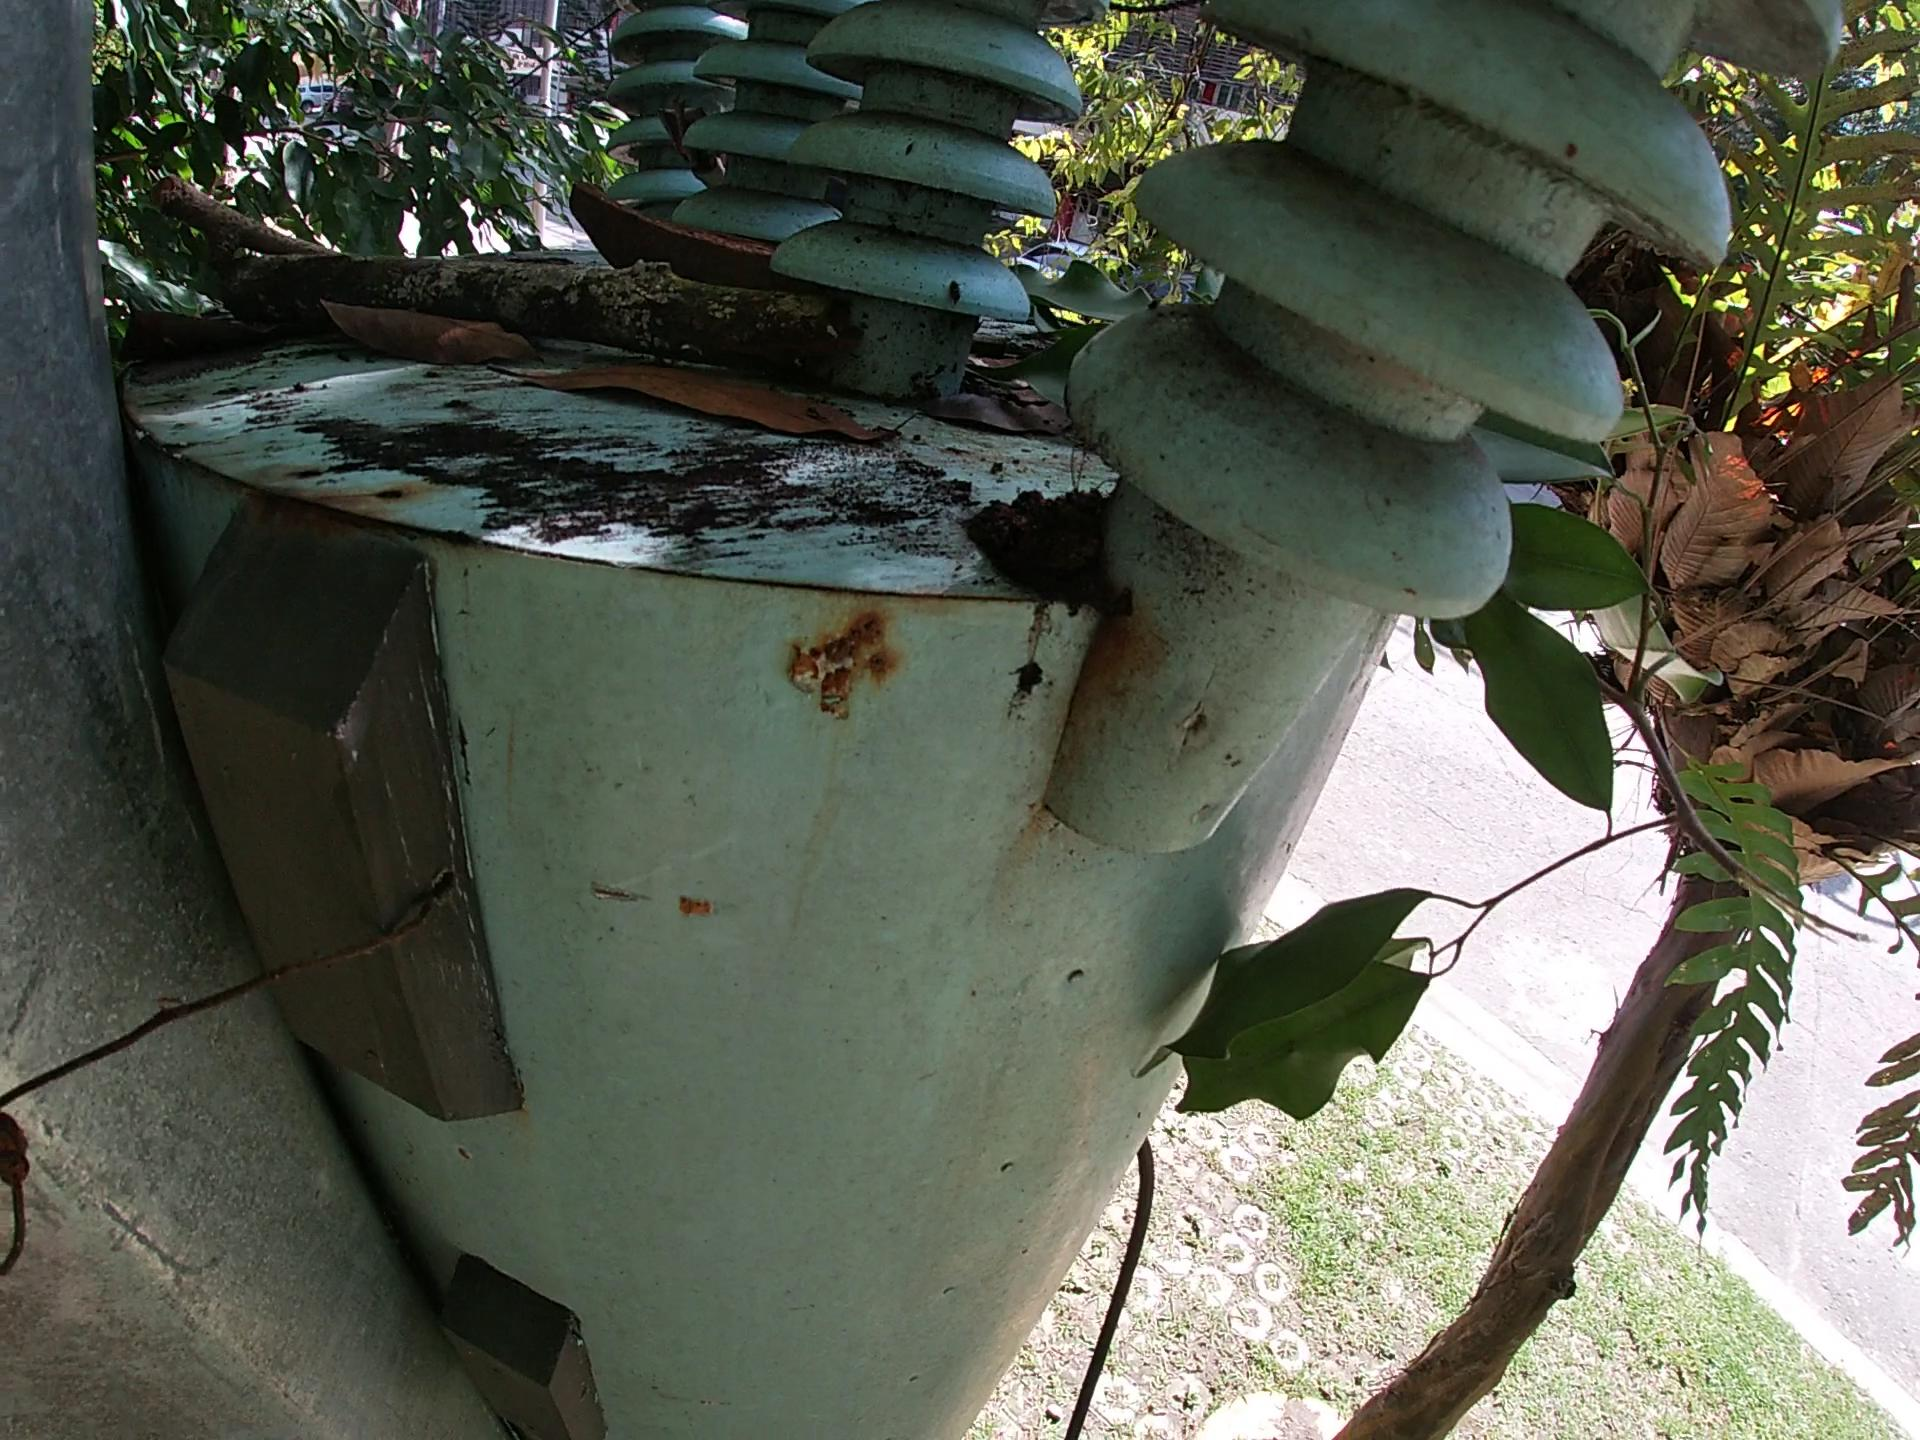branch with leaves: (1126, 298, 1884, 1137)
leaf: (481, 355, 918, 467), (311, 287, 544, 365), (112, 287, 302, 365), (909, 377, 1078, 449)
mahogany fruit: (559, 182, 789, 290)
tree branch: (212, 251, 865, 390), (150, 174, 337, 259)
